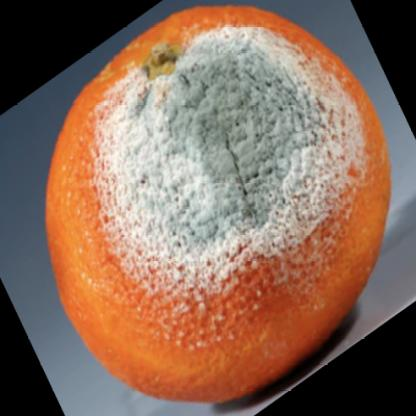rotten: (48, 9, 394, 400)
